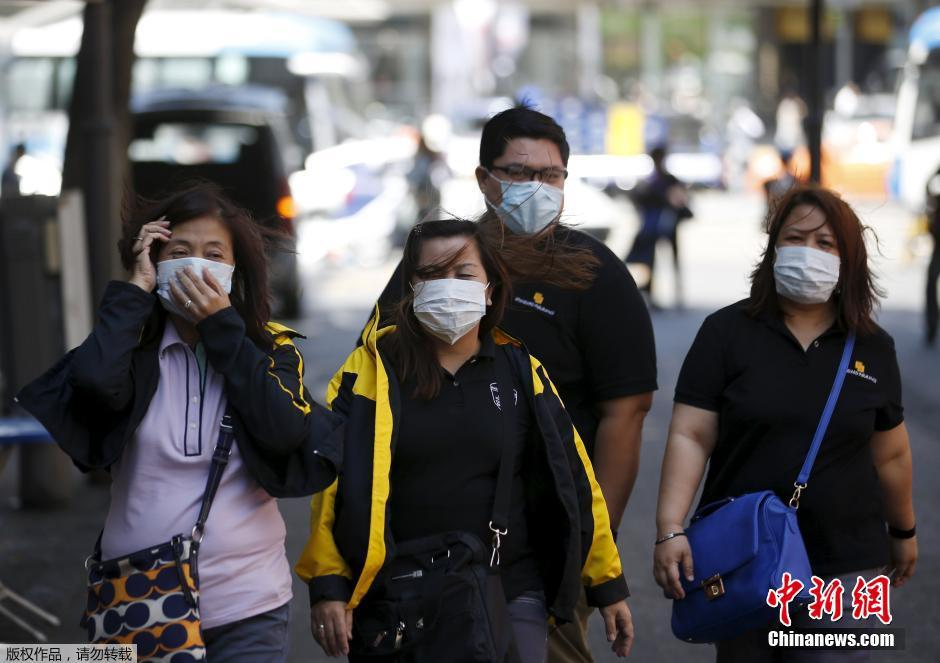mask: (152, 235, 236, 322), (410, 257, 486, 347), (768, 223, 845, 304), (489, 157, 564, 239)
